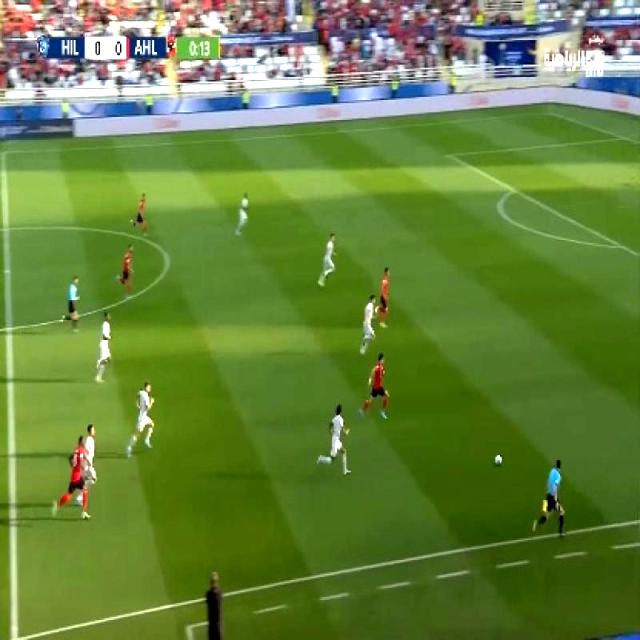bigarea_top_inner: (440, 145, 458, 165)
bigarea_top_outter: (611, 126, 634, 146)
bottom_arc_area_intersection: (611, 235, 626, 255)
corner: (538, 105, 558, 120)
halfcircle_bottom: (0, 309, 18, 344)
halfcircle_top: (0, 216, 14, 238)
midline_bottom_intersection: (2, 618, 28, 640)
midline_top_intersection: (0, 144, 14, 158)
top_arc_area_intersection: (500, 177, 525, 203)
